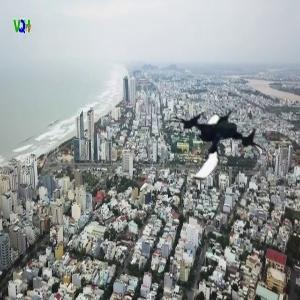drone: (167, 92, 265, 190)
